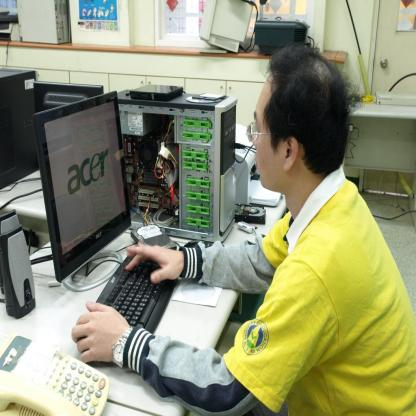board: (128, 83, 184, 102)
